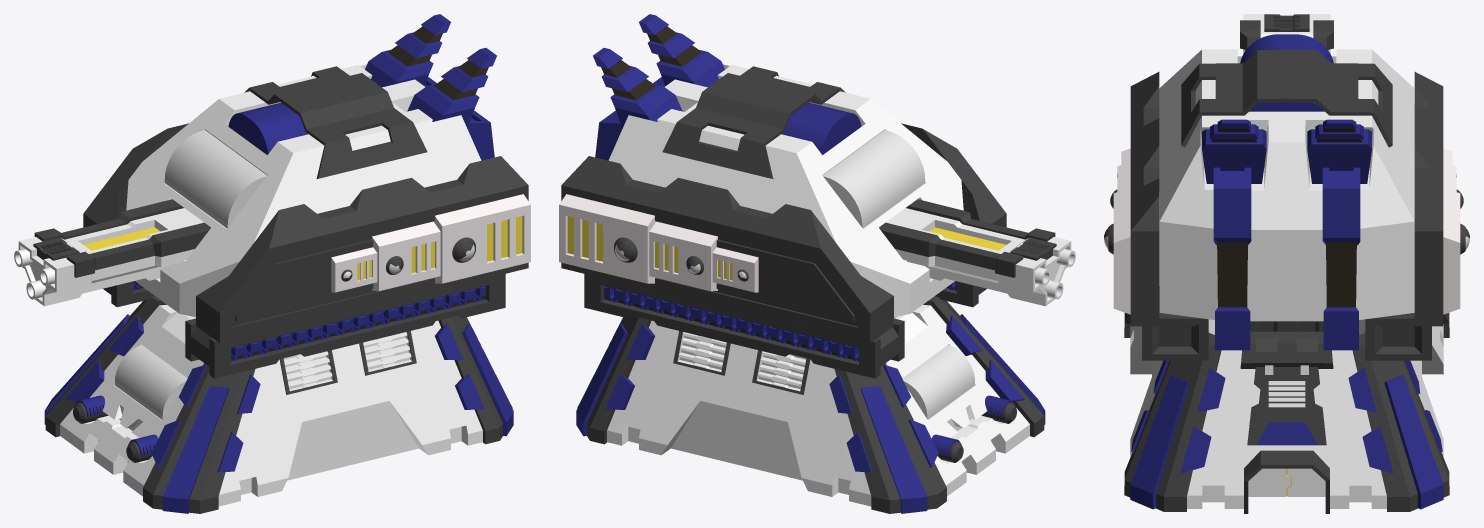
The model's file is machineGun0_low.fbx.
3 renders of one model, left to right at view 1: azimuth 30°, elevation 25°; view 2: azimuth 150°, elevation 25°; view 3: azimuth 270°, elevation 25°, orthographic. The views are drawn at different scales.
Parts seen in each view (by area): view 1: Base_low, SidePlate_low, Head_low, OuterPlate_low, PillarGadgets_low, BasePillars_low, TopCover_low, BackWings_low, GunBarrel_low, Vision_low, GunAccessory_low, Magazine_low (+6 smaller); view 2: Base_low, SidePlate_low, Head_low, OuterPlate_low, PillarGadgets_low, BasePillars_low, TopCover_low, BackWings_low, GunBarrel_low, Vision_low, GunAccessory_low, Magazine_low (+6 smaller); view 3: Head_low, SidePlate_low, BackWings_low, Base_low, TopCover_low, PillarGadgets_low, BasePillars_low, BackAccessoryPlate_low, OuterPlate_low, BackHangar_low, TopCapsule_low, GunAccessory_low (+5 smaller).
Boxes of the visible parts, x1=… form: Base_low: x1=60, y1=305, x2=482, y2=506; SidePlate_low: x1=83, y1=123, x2=528, y2=378; Head_low: x1=126, y1=64, x2=481, y2=317; OuterPlate_low: x1=331, y1=194, x2=530, y2=292; PillarGadgets_low: x1=44, y1=314, x2=513, y2=513; BasePillars_low: x1=45, y1=296, x2=512, y2=513; TopCover_low: x1=244, y1=66, x2=427, y2=178; BackWings_low: x1=365, y1=14, x2=496, y2=160; GunBarrel_low: x1=14, y1=208, x2=203, y2=306; Vision_low: x1=164, y1=130, x2=266, y2=228; GunAccessory_low: x1=33, y1=199, x2=210, y2=277; Magazine_low: x1=133, y1=281, x2=485, y2=361; Base_low: x1=607, y1=305, x2=1029, y2=506; SidePlate_low: x1=561, y1=123, x2=1006, y2=378; Head_low: x1=608, y1=64, x2=963, y2=317; OuterPlate_low: x1=559, y1=194, x2=758, y2=292; PillarGadgets_low: x1=576, y1=314, x2=1045, y2=513; BasePillars_low: x1=577, y1=296, x2=1044, y2=513; TopCover_low: x1=662, y1=66, x2=845, y2=178; BackWings_low: x1=593, y1=14, x2=724, y2=160; GunBarrel_low: x1=886, y1=208, x2=1075, y2=306; Vision_low: x1=823, y1=130, x2=925, y2=228; GunAccessory_low: x1=879, y1=199, x2=1056, y2=277; Magazine_low: x1=604, y1=281, x2=956, y2=361; Head_low: x1=1159, y1=49, x2=1414, y2=321; SidePlate_low: x1=1130, y1=72, x2=1443, y2=360; BackWings_low: x1=1202, y1=119, x2=1371, y2=350; Base_low: x1=1130, y1=319, x2=1443, y2=508; TopCover_low: x1=1181, y1=49, x2=1392, y2=147; PillarGadgets_low: x1=1130, y1=360, x2=1443, y2=509; BasePillars_low: x1=1124, y1=313, x2=1449, y2=511; BackAccessoryPlate_low: x1=1240, y1=331, x2=1333, y2=445; OuterPlate_low: x1=1113, y1=148, x2=1460, y2=314; BackHangar_low: x1=1244, y1=450, x2=1329, y2=513; TopCapsule_low: x1=1240, y1=34, x2=1333, y2=111; GunAccessory_low: x1=1240, y1=14, x2=1333, y2=49.
Bounding box in the file's own units: 400 × 302 × 252.
